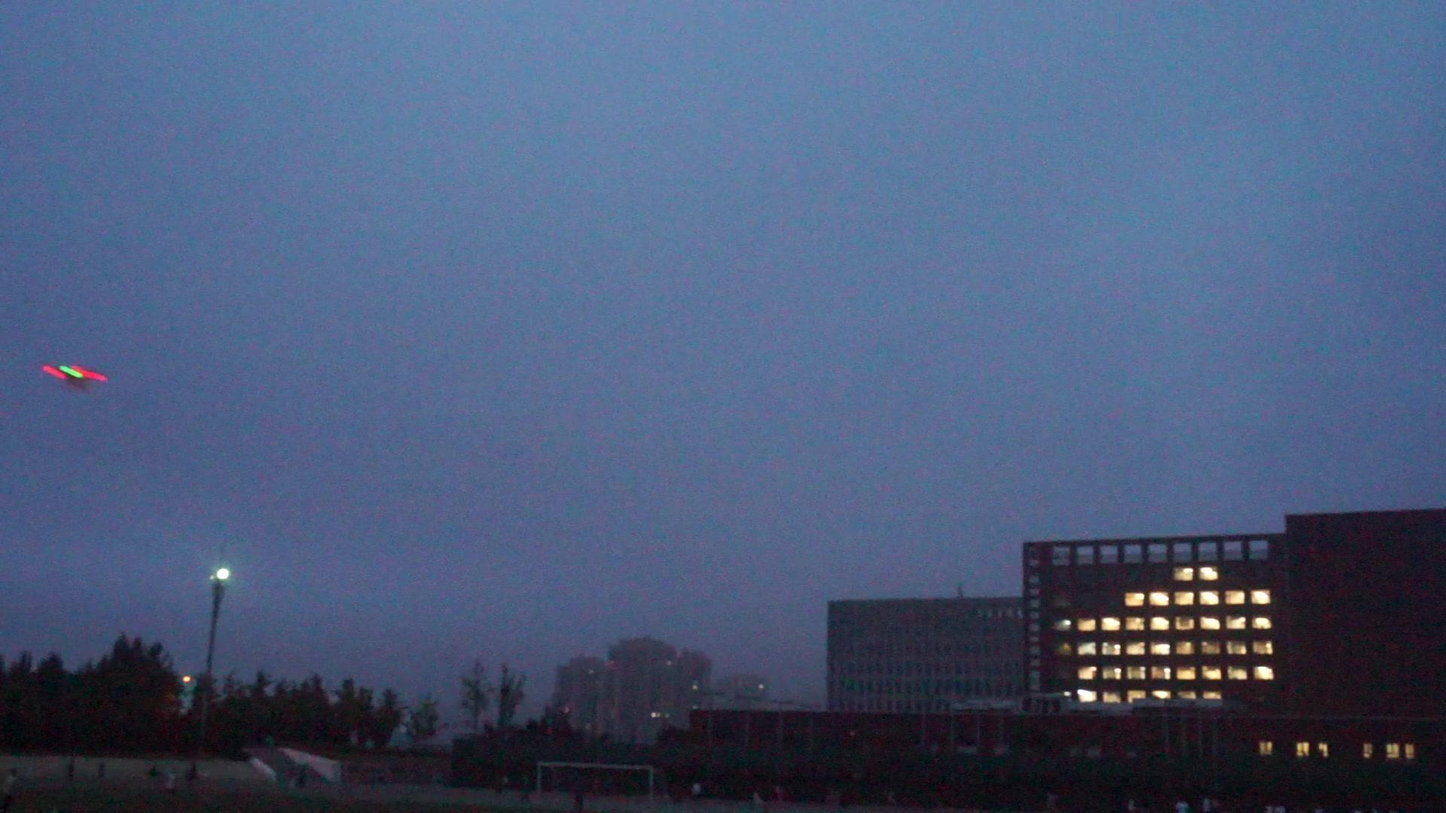UAV: (42, 364, 109, 390)
